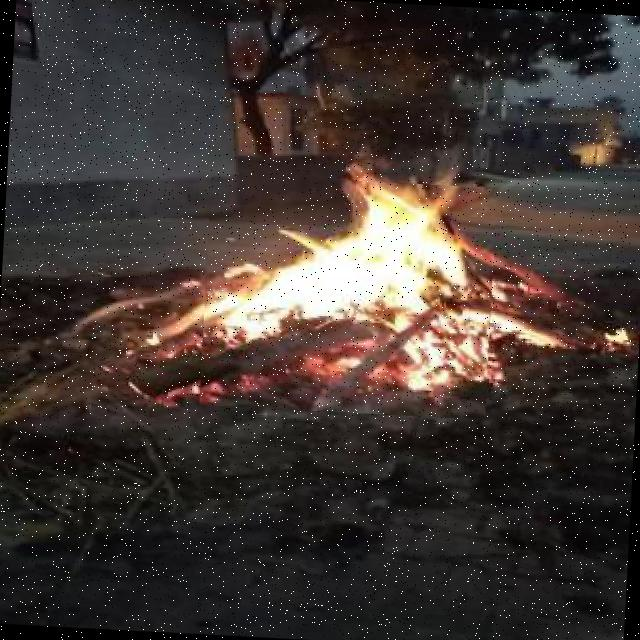fire: (200, 173, 498, 420)
